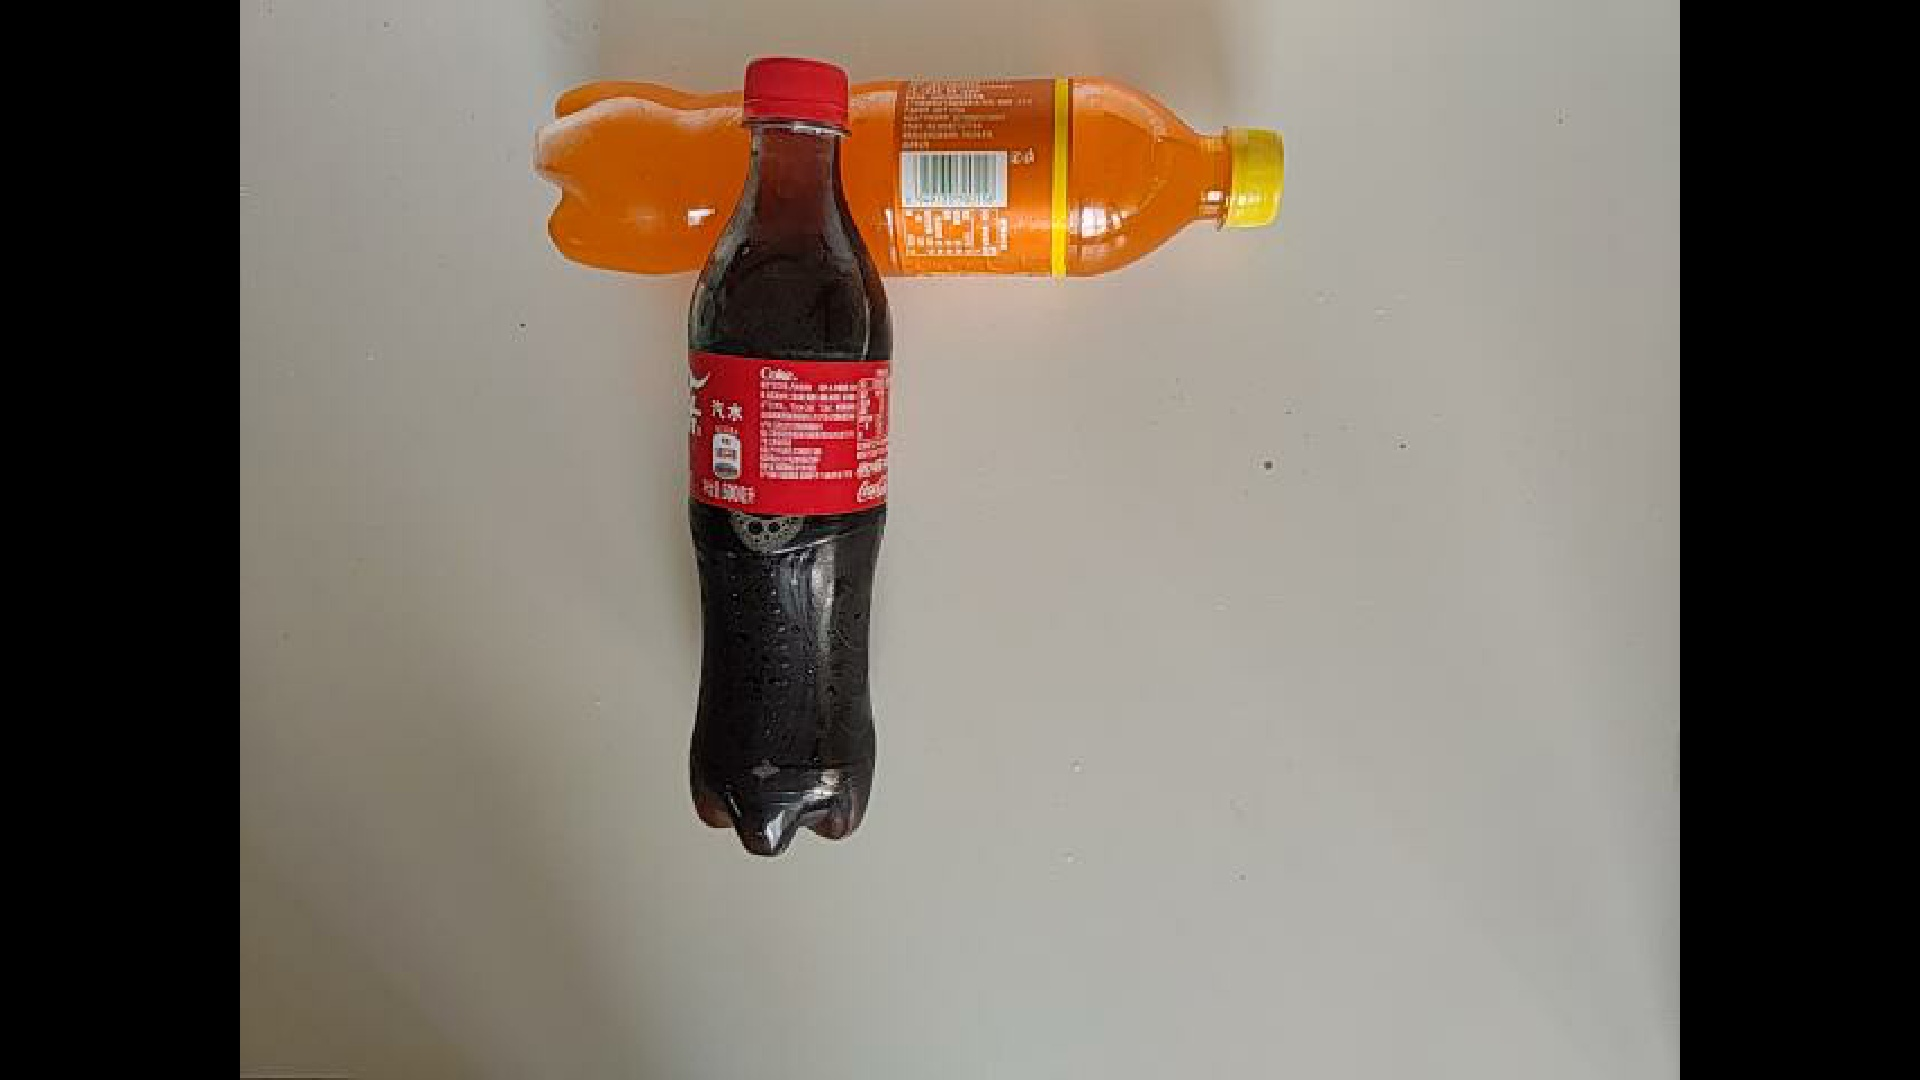cola: (684, 54, 894, 860)
fenta: (531, 73, 1287, 280)
